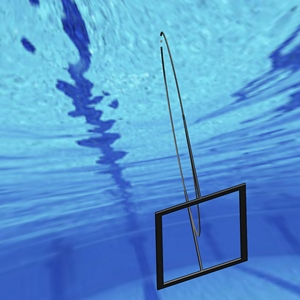circle: (151, 30, 250, 290)
